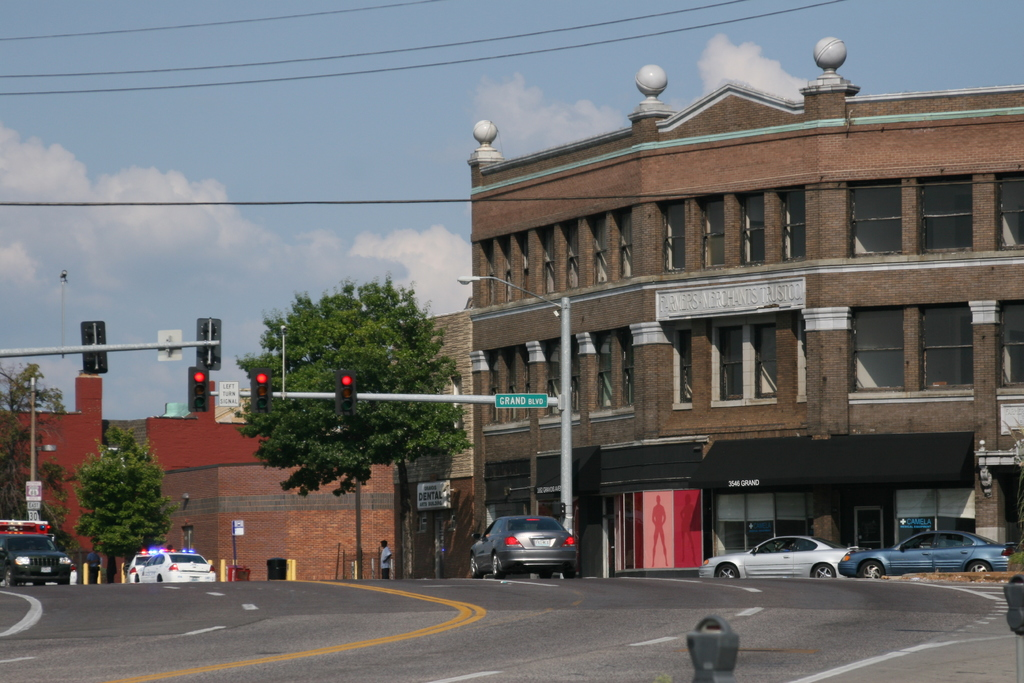Car: (837, 522, 1015, 574), (466, 508, 584, 581), (700, 527, 852, 577), (0, 527, 75, 583), (125, 545, 216, 583)
